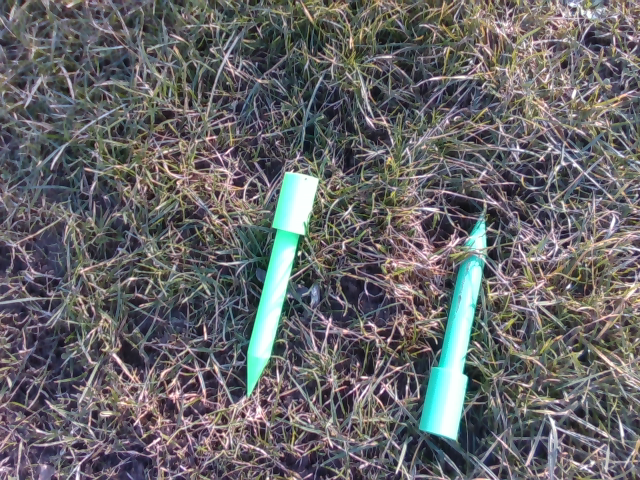Probe: (238, 162, 328, 405), (416, 209, 497, 442)
